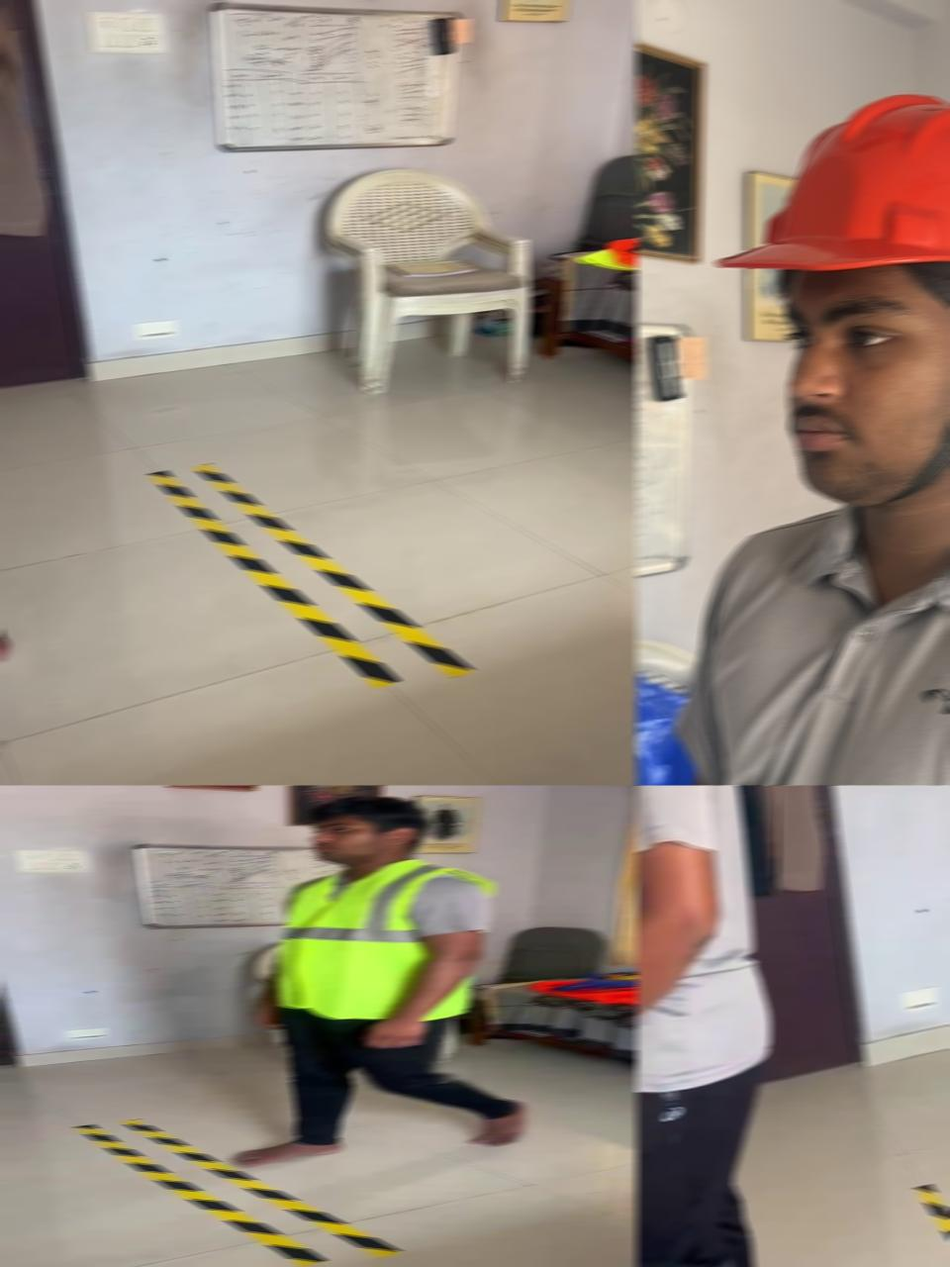BorderLine: (144, 463, 475, 687), (71, 1118, 403, 1267)
Helmet: (713, 92, 950, 507)
No_Helmet: (309, 795, 430, 865)
No_Vest: (671, 458, 950, 785), (635, 785, 771, 1093)
Person: (645, 92, 950, 785), (232, 795, 529, 1166), (635, 785, 816, 1267)
Vest: (275, 858, 496, 1020)
